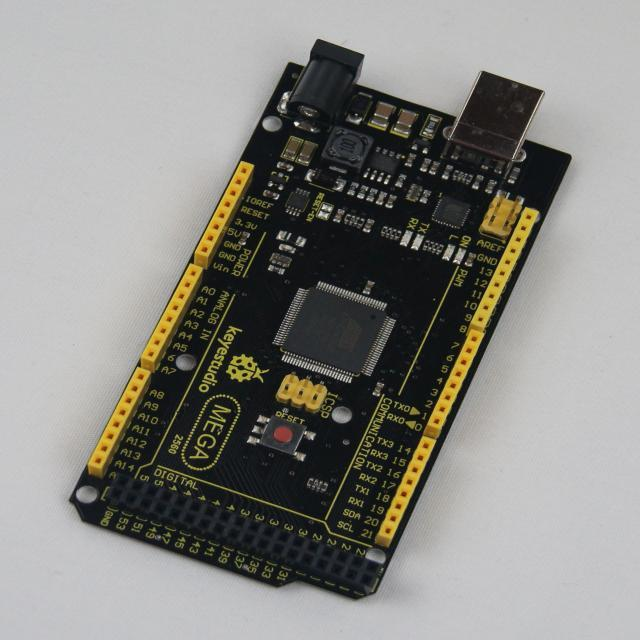Arduino Mega 2560 -Yellow-: (71, 41, 570, 599)
